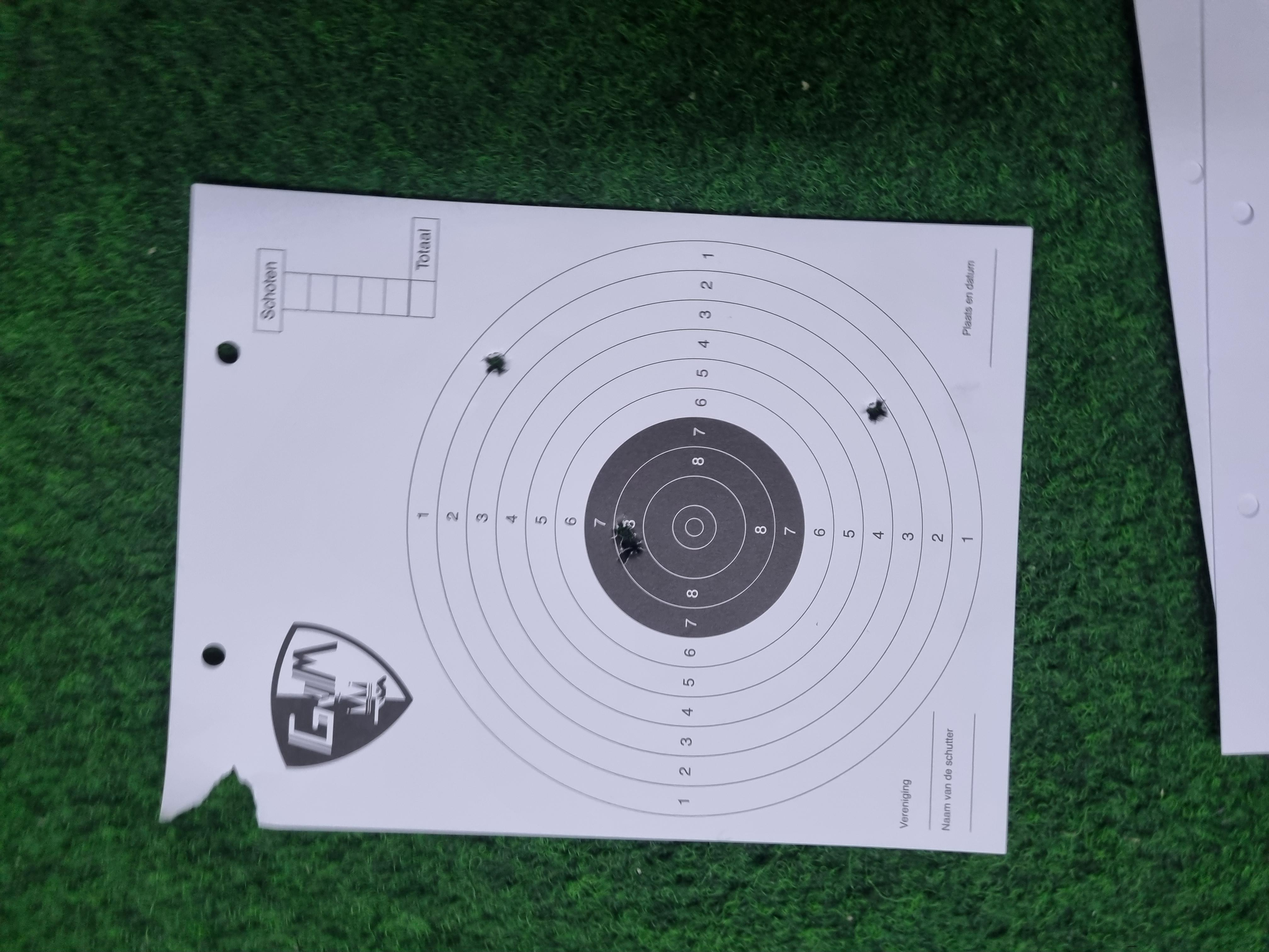hole: (766, 361, 800, 383), (516, 463, 553, 482), (703, 649, 738, 667), (548, 458, 576, 477)
